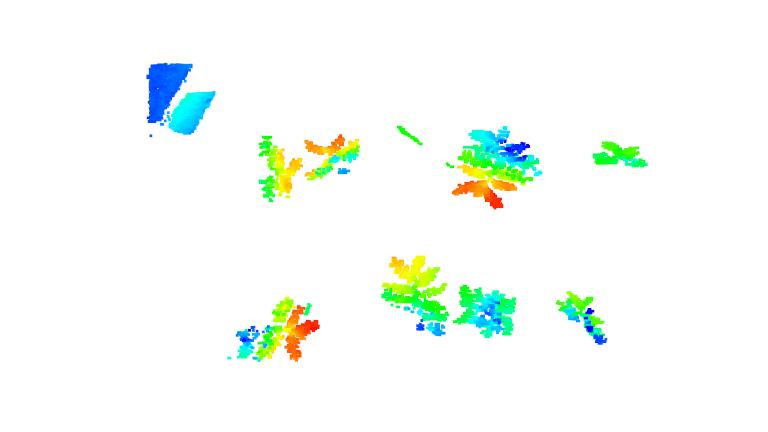chickpea: (448, 126, 542, 210), (237, 293, 318, 364), (381, 252, 450, 335), (447, 282, 518, 340), (253, 135, 301, 200), (555, 290, 609, 346), (299, 133, 363, 180), (589, 140, 654, 169)
